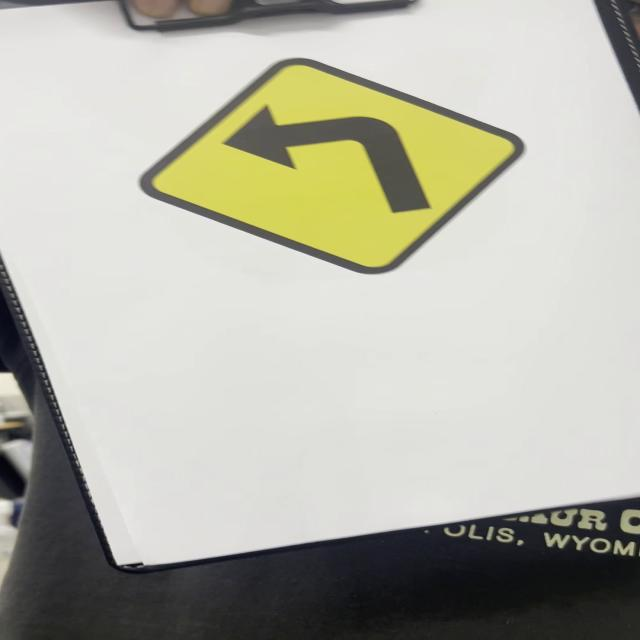left: (138, 51, 531, 276)
